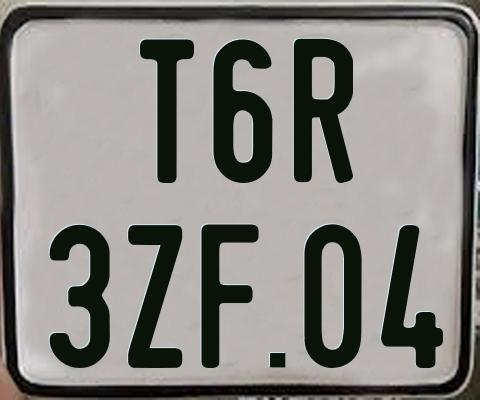0: (304, 224, 363, 372)
3: (48, 223, 113, 367)
4: (381, 223, 445, 371)
6: (210, 38, 271, 188)
F: (198, 224, 261, 368)
R: (293, 36, 353, 185)
T: (137, 37, 193, 187)
Z: (125, 225, 181, 372)
